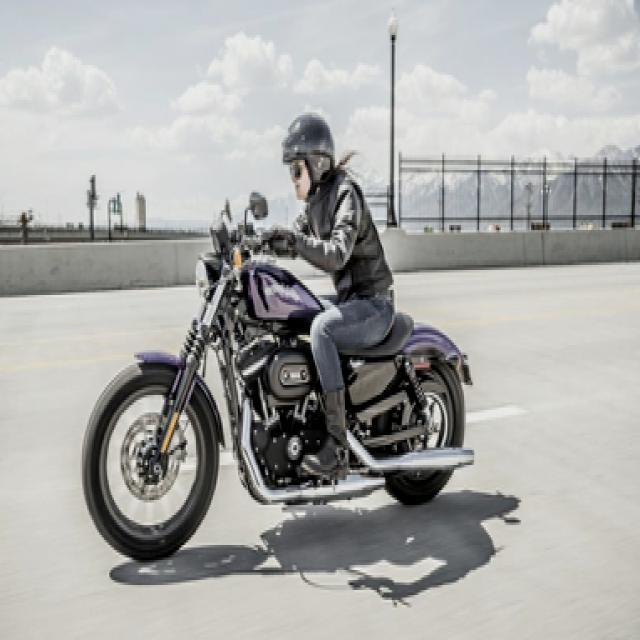Helmet: (278, 102, 337, 210)
